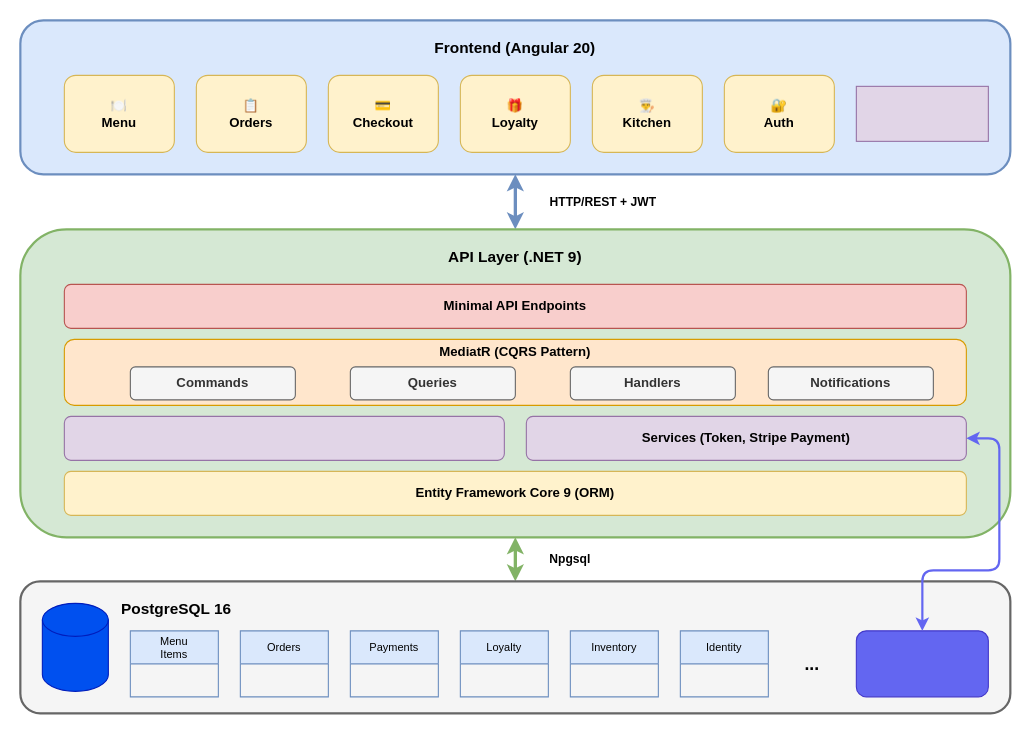
Image size: 1030x733. Some labels were removed from this diagram. The centre of each missing label's shape, as x and y in pixels:
"FluentValidation Validators" goes at (x=283, y=437).
"PrimeNG + RxJS" goes at (x=921, y=113).
"💳 Stripe API" goes at (x=921, y=663).
